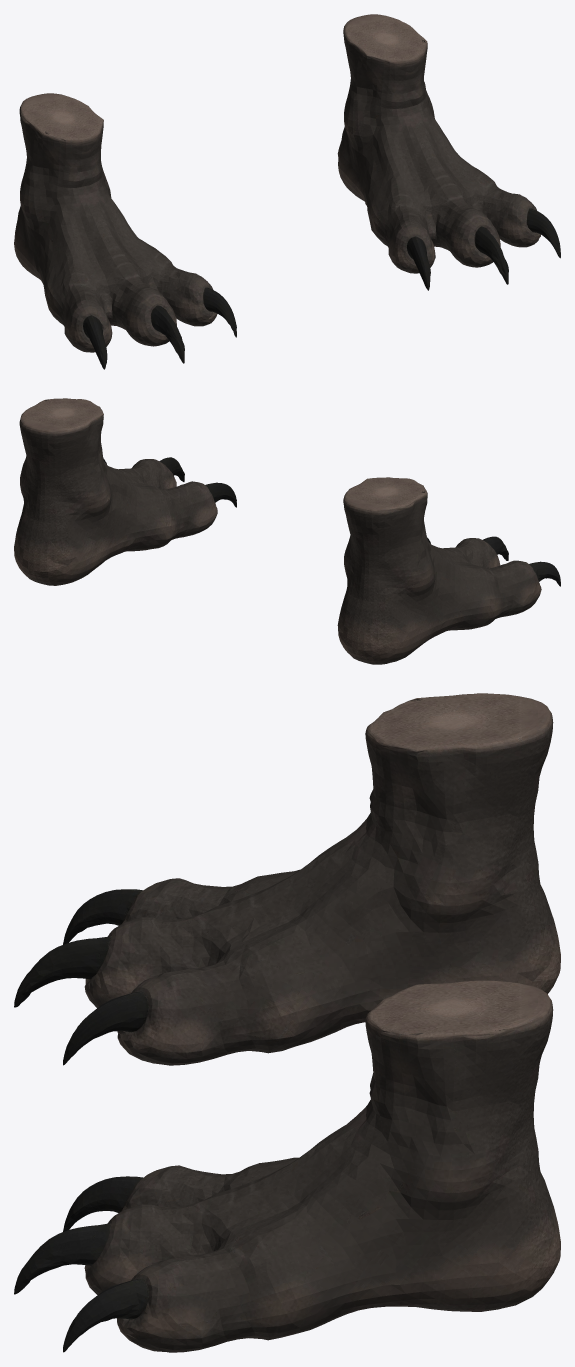
File: ewm_beastfeet.glb
The picture shows the model from 3 angles, top to bottom: view 1: azimuth 30°, elevation 25°; view 2: azimuth 150°, elevation 25°; view 3: azimuth 270°, elevation 25°; orthographic projection. The views are drawn at different scales.
Visible parts, largest first — view 1: ewm_beastfeet; view 2: ewm_beastfeet; view 3: ewm_beastfeet.
Part boxes in pixels (x1=…): ewm_beastfeet: x1=14, y1=14, x2=560, y2=369; ewm_beastfeet: x1=14, y1=398, x2=560, y2=664; ewm_beastfeet: x1=14, y1=693, x2=560, y2=1352.
Size of the model in its own units: 0.5874 by 0.2 by 0.3292.
Materials: 1 (1 with a texture image).
